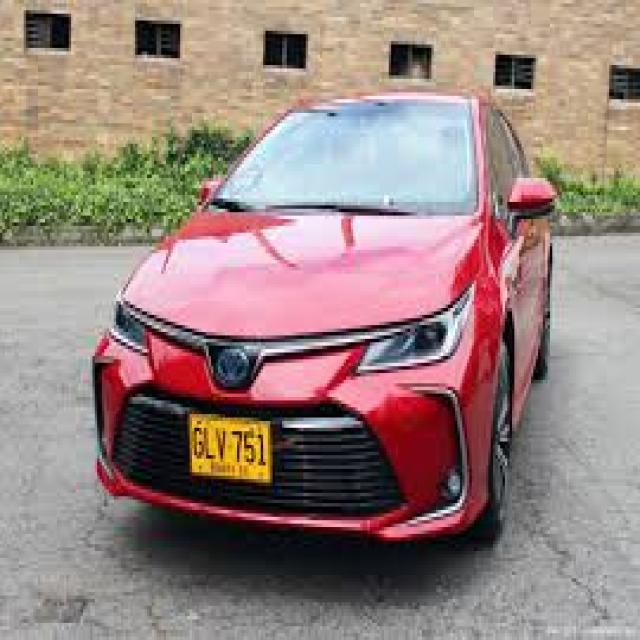placa_carro: (187, 411, 274, 490)
